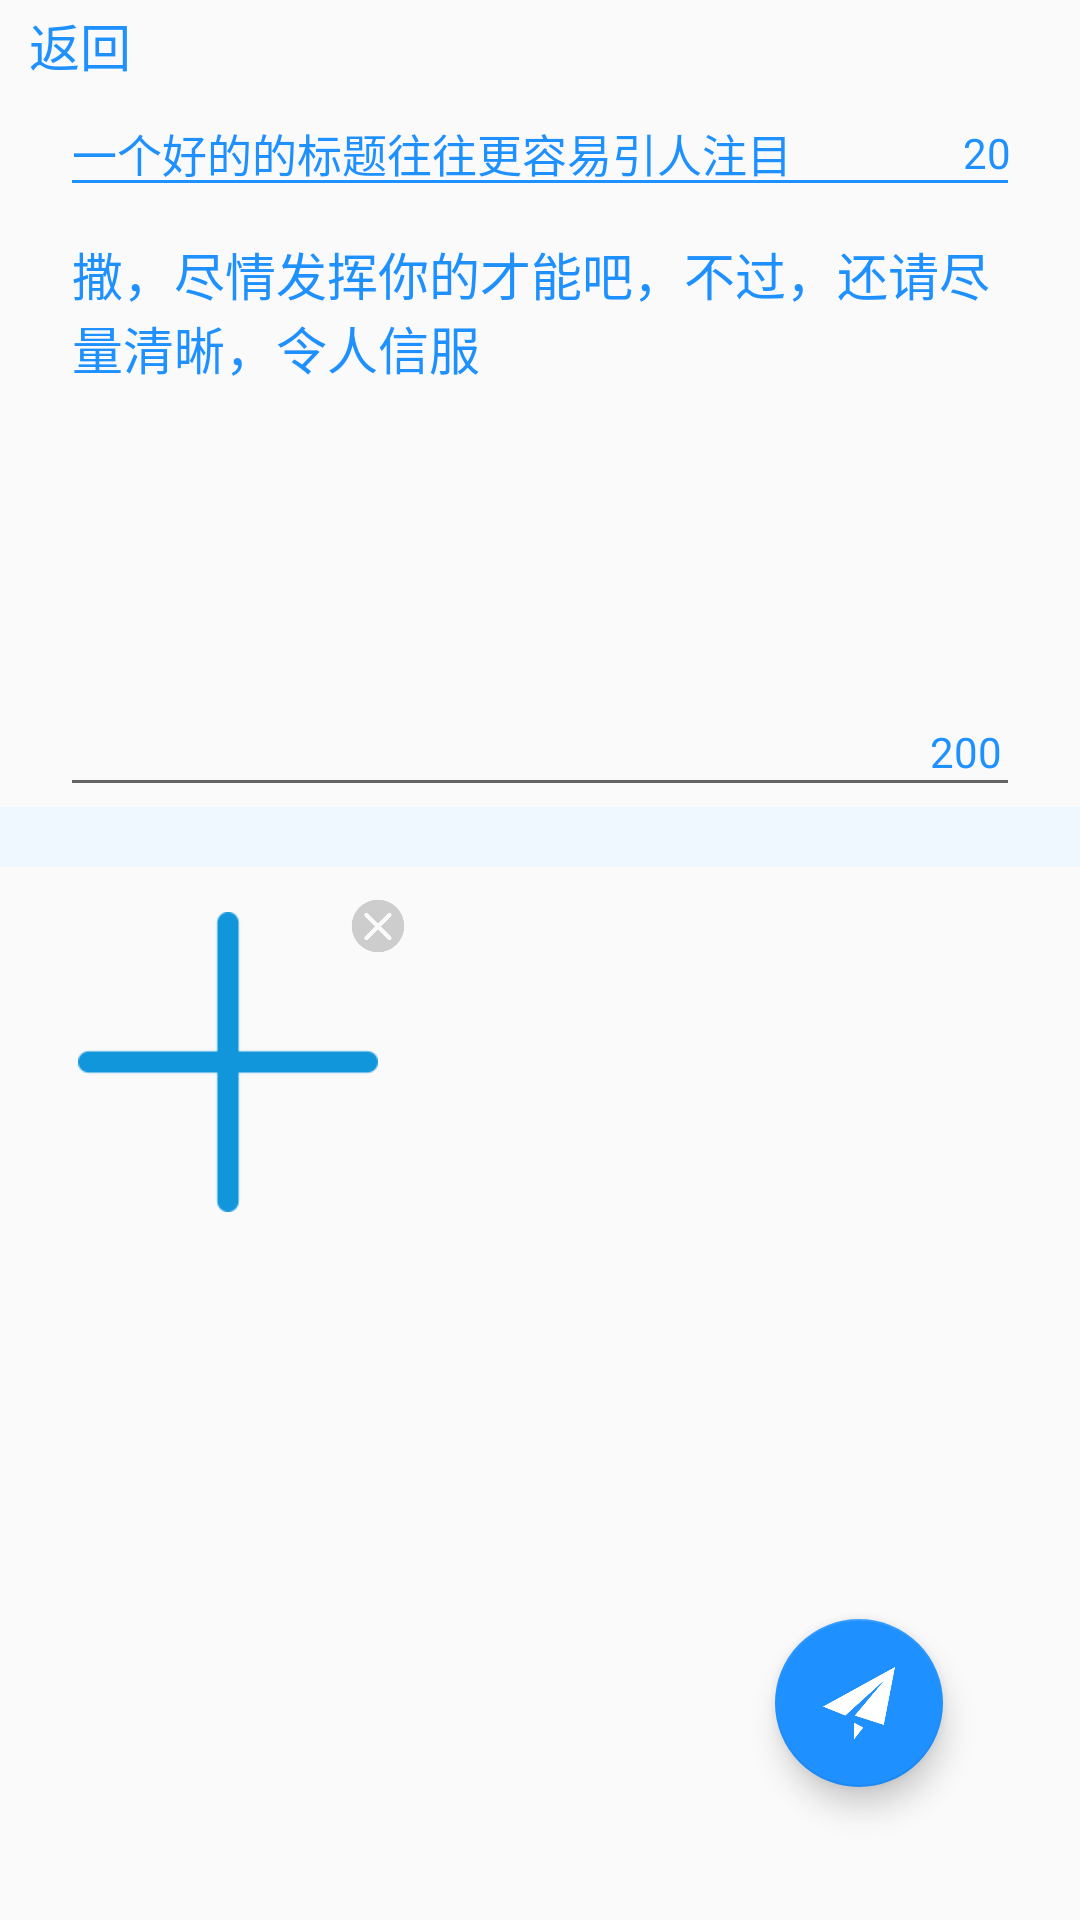

Icons on this 1080 x 1920 Android screen, each with its box as (x1, y1, x2, y2):
cancel: (352, 900, 404, 952)
commit: (775, 1619, 943, 1787)
jia question: (78, 912, 378, 1212)
